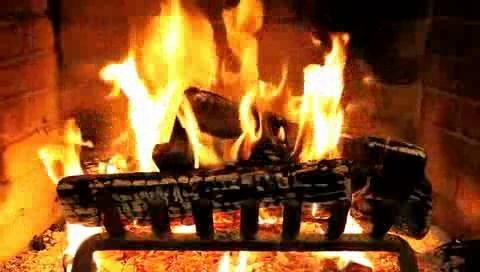fire: (110, 3, 344, 187)
